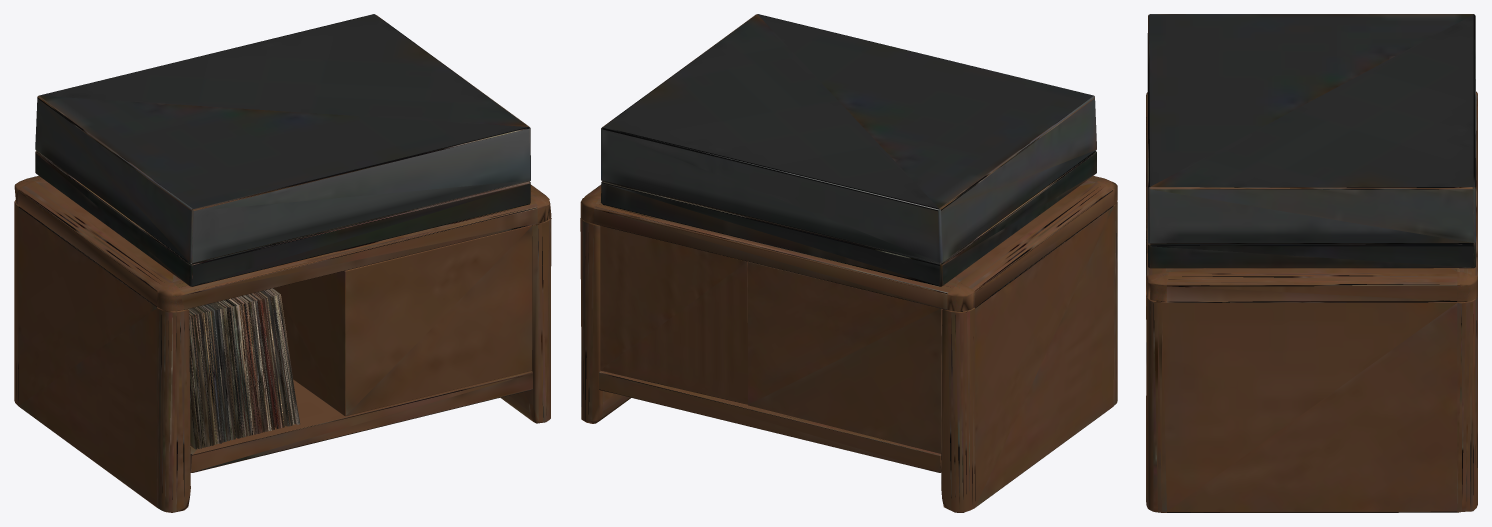
Rendered from mobile.glb.
3 renders of one model, left to right at view 1: azimuth 30°, elevation 25°; view 2: azimuth 150°, elevation 25°; view 3: azimuth 270°, elevation 25°, orthographic. The views are drawn at different scales.
Parts seen in each view (by area): view 1: turntable; view 2: turntable; view 3: turntable.
Boxes of the visible parts, x1,y1,x2,y2 form: turntable: (14, 14, 551, 512); turntable: (580, 14, 1117, 512); turntable: (1146, 14, 1477, 512).
Bounding box in the file's own units: 0.4501 × 0.3301 × 0.3155.
1 material, 1 textured.
